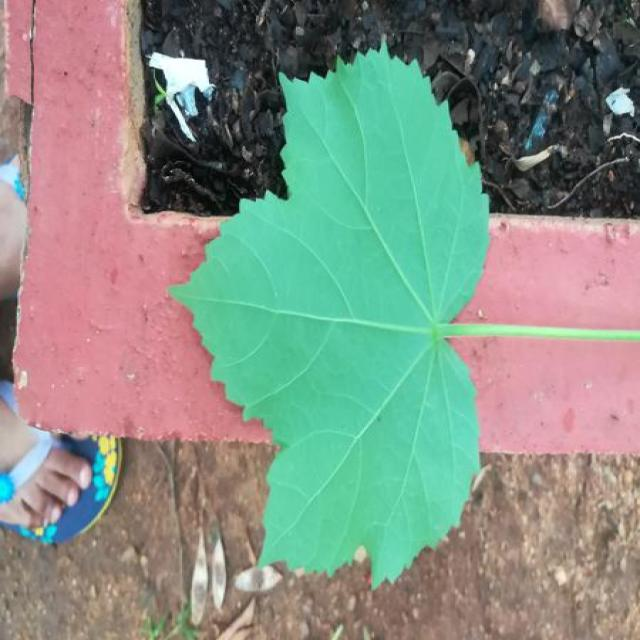kasamburga: (170, 49, 637, 586)
